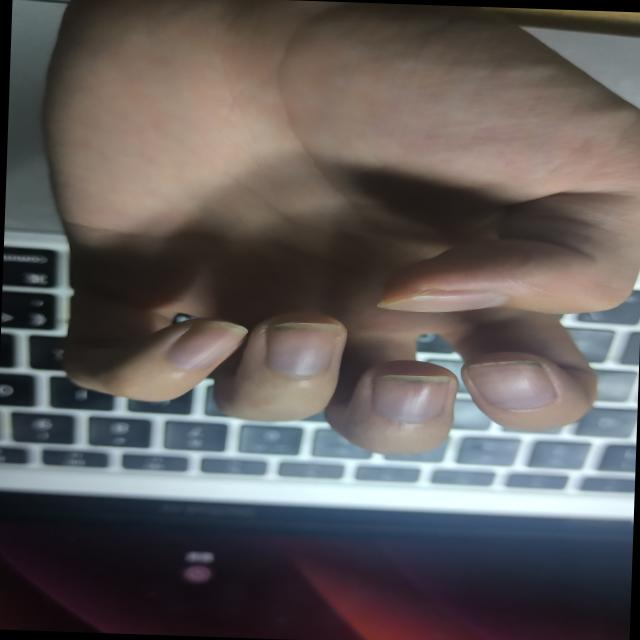Nail: (465, 359, 554, 410), (160, 320, 247, 369), (265, 320, 335, 375), (372, 374, 451, 420), (380, 287, 507, 310)
